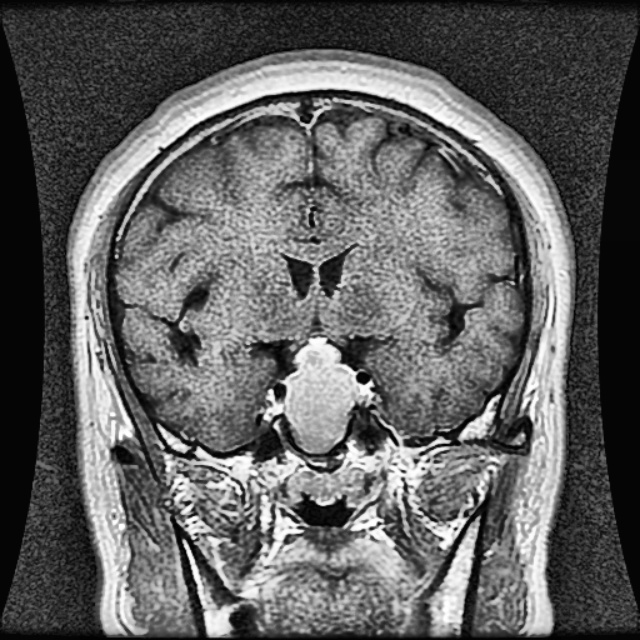Pituitary: (284, 340, 357, 449)
